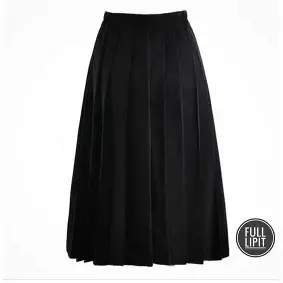rok_benar: (66, 10, 227, 265)
